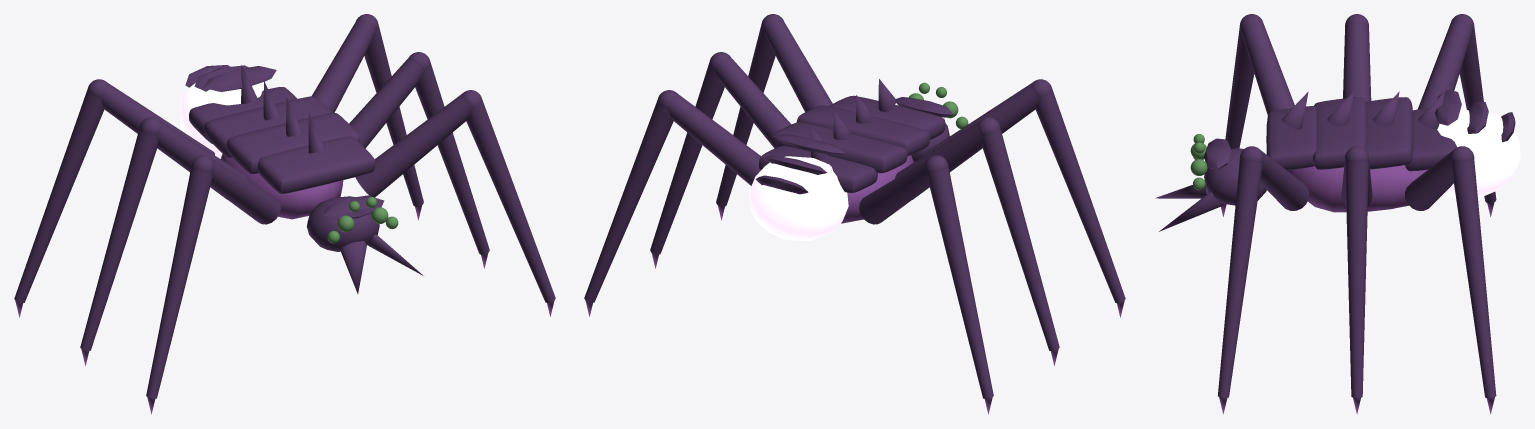
Rendered from Skitter.fbx.
3 renders of one model, left to right at view 1: azimuth 30°, elevation 25°; view 2: azimuth 150°, elevation 25°; view 3: azimuth 270°, elevation 25°, orthographic.
Parts seen in each view (by area): view 1: Body, Leg_3, Leg_0, Leg_1, Leg_2, Leg_4, Leg_5; view 2: Body, Leg_5, Leg_2, Leg_1, Leg_0, Leg_4, Leg_3; view 3: Body, Leg_5, Leg_3, Leg_4, Leg_0, Leg_2, Leg_1.
Boxes of the visible parts, <box> form: Body: <box>180,65,423,293</box>; Leg_3: <box>355,90,555,316</box>; Leg_0: <box>146,155,280,414</box>; Leg_1: <box>80,117,246,365</box>; Leg_2: <box>14,79,214,317</box>; Leg_4: <box>349,52,489,268</box>; Leg_5: <box>312,14,423,220</box>; Body: <box>749,79,968,240</box>; Leg_5: <box>584,90,760,316</box>; Leg_2: <box>859,155,993,414</box>; Leg_1: <box>894,117,1059,365</box>; Leg_0: <box>925,79,1125,317</box>; Leg_4: <box>650,52,791,268</box>; Leg_3: <box>716,14,832,220</box>; Body: <box>1155,89,1520,231</box>; Leg_5: <box>1405,146,1496,414</box>; Leg_3: <box>1218,146,1309,414</box>; Leg_4: <box>1341,146,1372,414</box>; Leg_0: <box>1221,14,1294,216</box>; Leg_2: <box>1417,14,1496,216</box>; Leg_1: <box>1343,14,1371,101</box>.
Bounding box in the file's own units: 1.68 × 0.9125 × 1.29.
